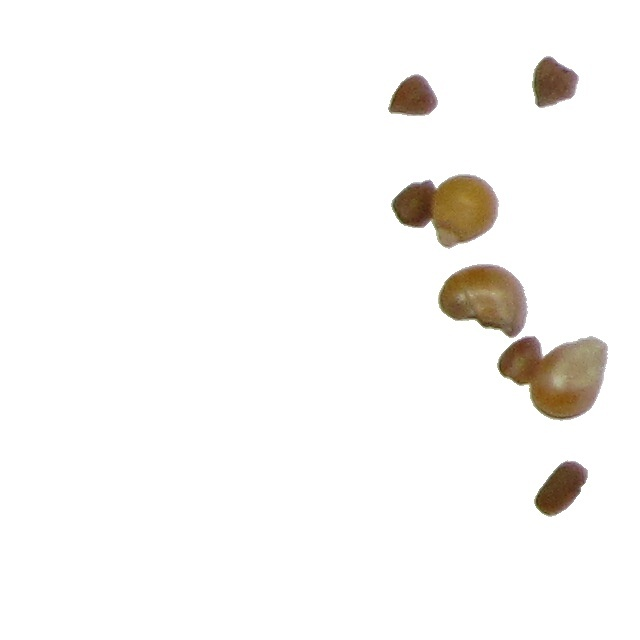buckwheat: (533, 459, 589, 518), (531, 55, 580, 109), (387, 73, 439, 117)
mais: (523, 335, 609, 421), (437, 263, 529, 339), (426, 173, 500, 248)
